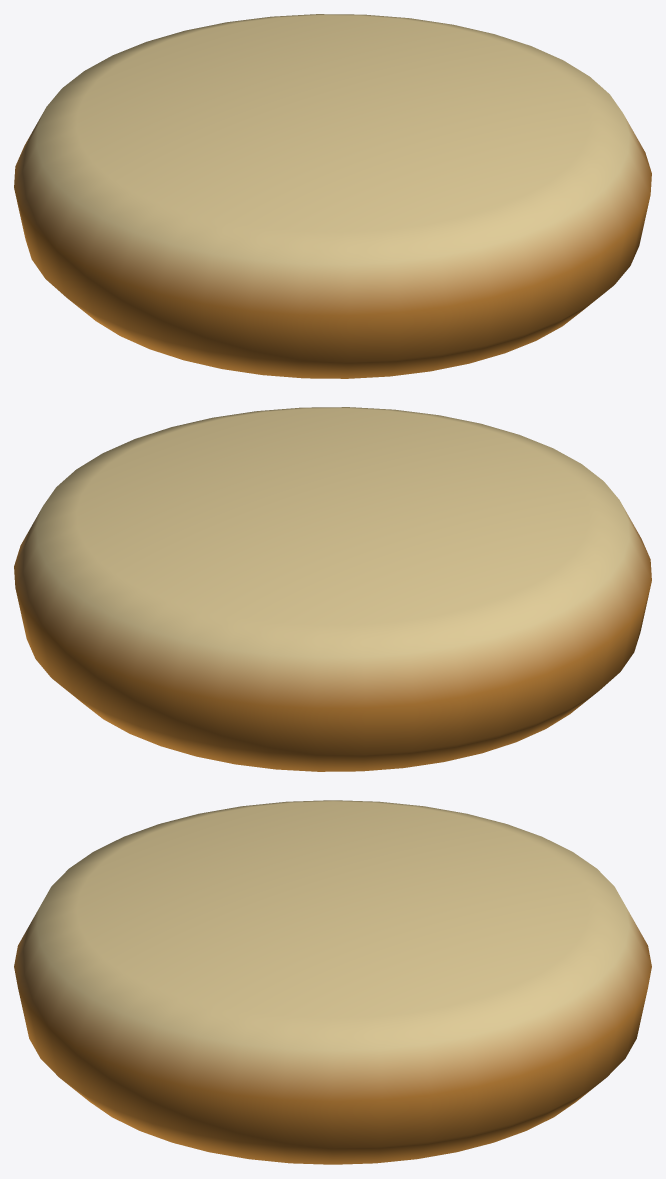
The model's file is bottom_bun.glb.
3 views of the same model, one above another, from view 1: azimuth 30°, elevation 25°; view 2: azimuth 150°, elevation 25°; view 3: azimuth 270°, elevation 25° (orthographic).
Visible parts, largest first — view 1: bottom_bun; view 2: bottom_bun; view 3: bottom_bun.
Boxes of the visible parts, <box> form: bottom_bun: <box>14,14,651,378</box>; bottom_bun: <box>14,407,651,771</box>; bottom_bun: <box>14,800,651,1164</box>.
Bounding box in the file's own units: 0.112 × 0.027 × 0.112.
